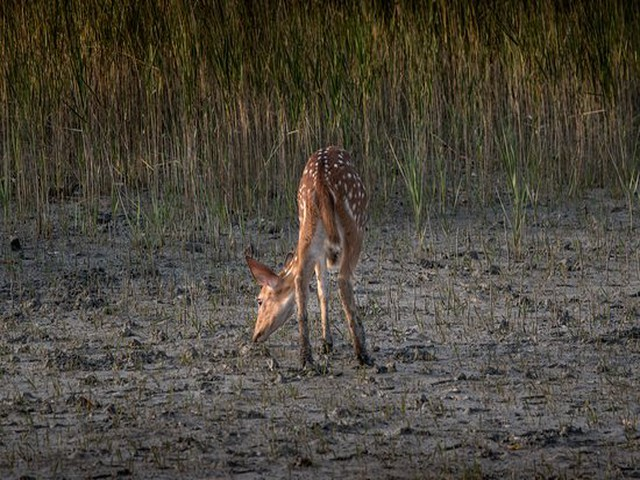deer: (245, 125, 385, 378)
